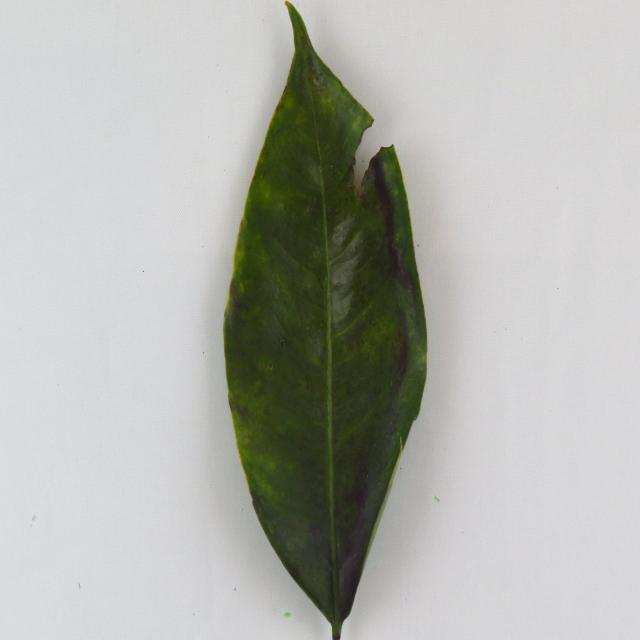DeficienciaNutricional-Magnesio: (224, 3, 426, 638)
